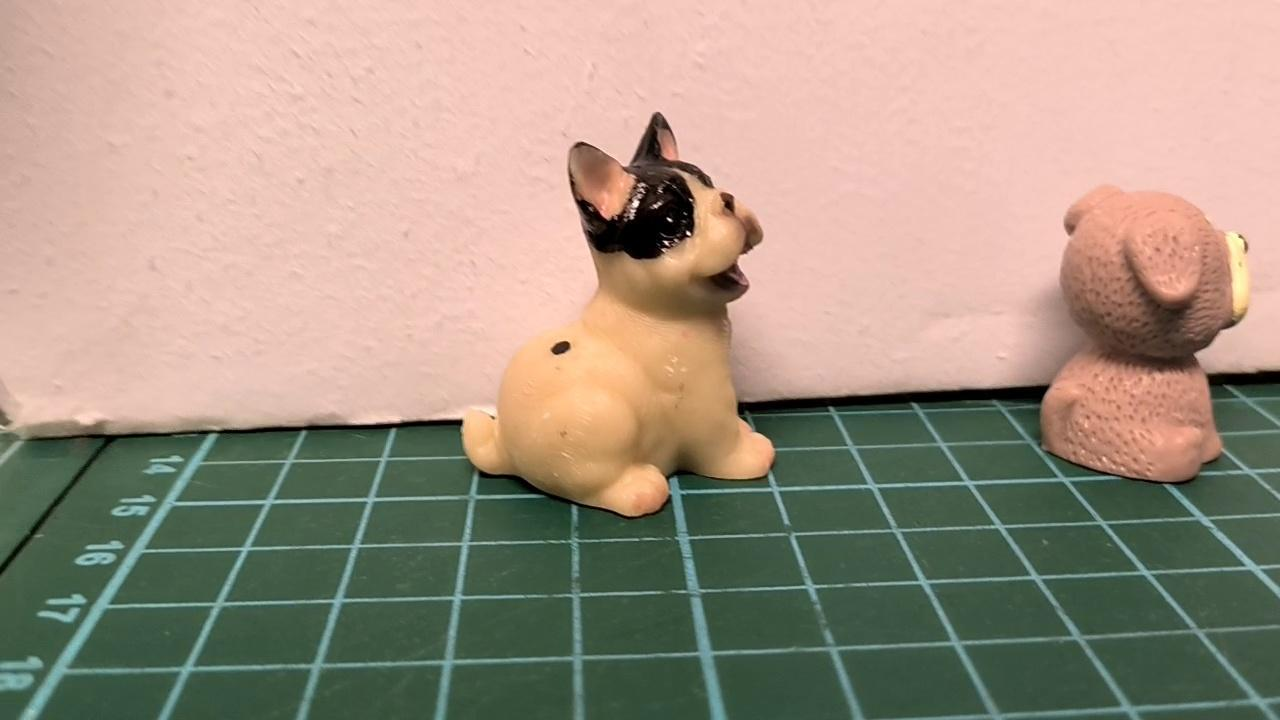pet: (462, 108, 775, 522), (1040, 182, 1250, 484)
